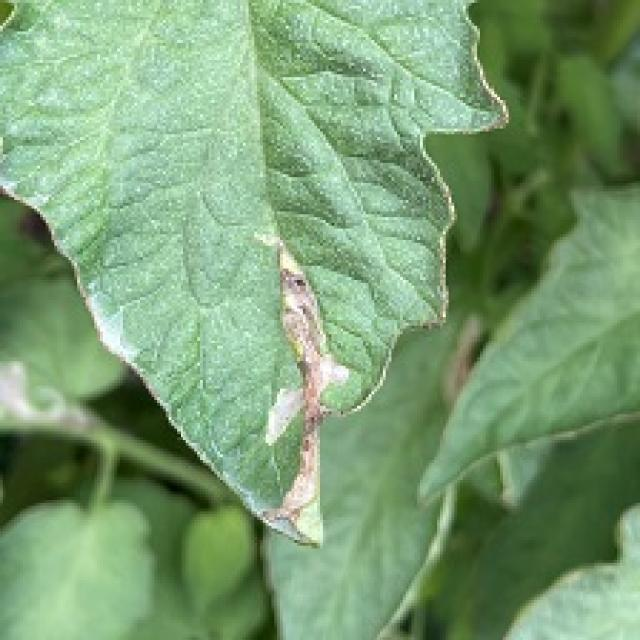Tuta absoluta: (263, 240, 347, 540)
